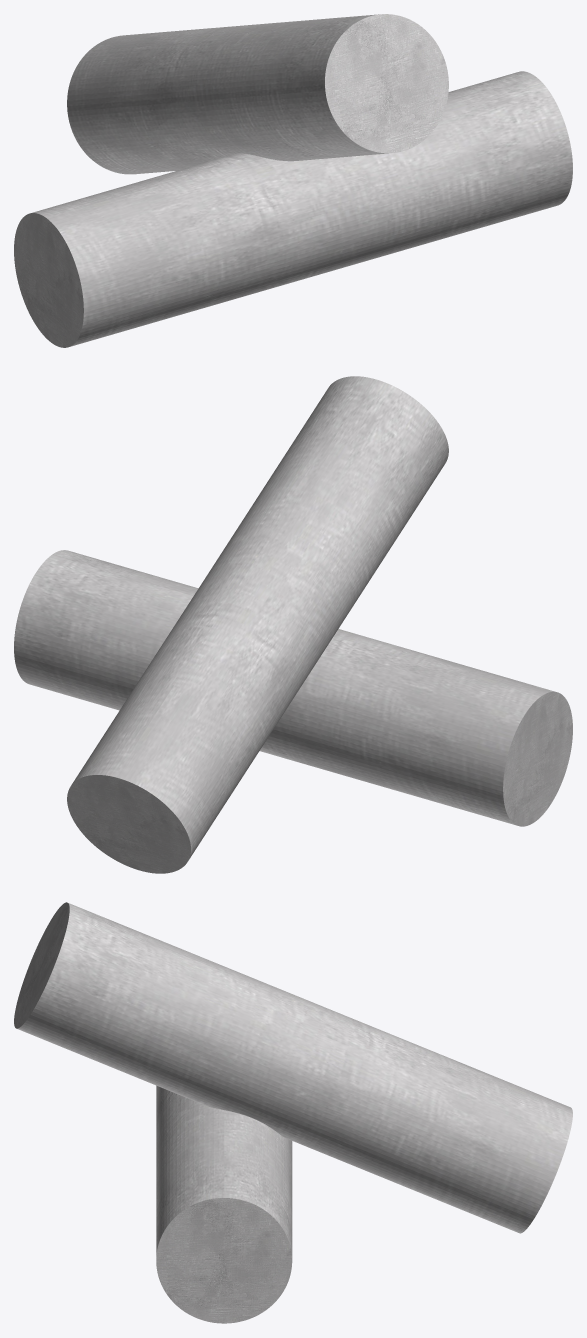
File: chalk.glb
3 views of the same model, one above another, from view 1: azimuth 30°, elevation 25°; view 2: azimuth 150°, elevation 25°; view 3: azimuth 270°, elevation 25° (orthographic). The views are drawn at different scales.
Parts seen in each view (by area): view 1: Cylinder.001, Cylinder; view 2: Cylinder, Cylinder.001; view 3: Cylinder, Cylinder.001.
Boxes of the visible parts, x1,y1,x2,y2 form: Cylinder.001: (14, 71, 572, 347); Cylinder: (67, 14, 448, 174); Cylinder: (67, 376, 448, 873); Cylinder.001: (14, 550, 572, 826); Cylinder: (14, 902, 572, 1233); Cylinder.001: (156, 1085, 292, 1323).
Size of the model in its own units: 3.69 by 2.32 by 3.7.
Materials: 1 (1 with a texture image).
